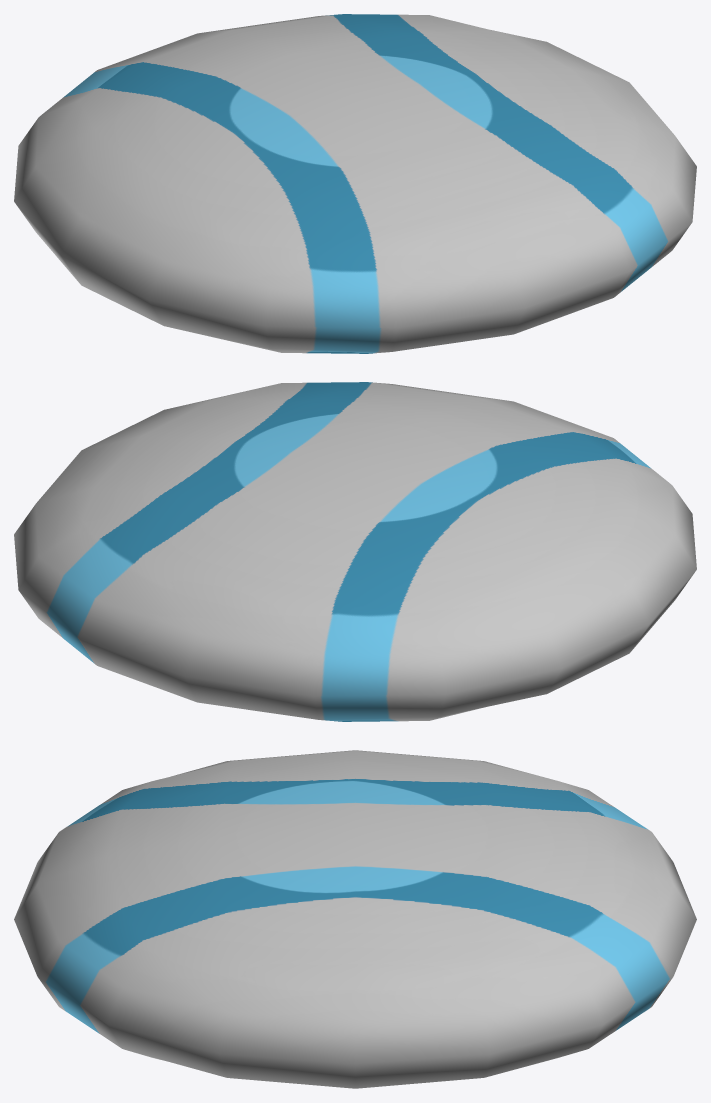
File: FloatingBoat.fbx
3 renders of one model, top to bottom at view 1: azimuth 30°, elevation 25°; view 2: azimuth 150°, elevation 25°; view 3: azimuth 270°, elevation 25°, orthographic.
Parts seen in each view (by area): view 1: Cube; view 2: Cube; view 3: Cube.
Boxes of the visible parts, x1,y1,x2,y2 form: Cube: (14,14,696,353); Cube: (14,382,696,721); Cube: (14,750,696,1088).
Size of the model in its own units: 626 by 178 by 626.
1 material, 1 textured.
